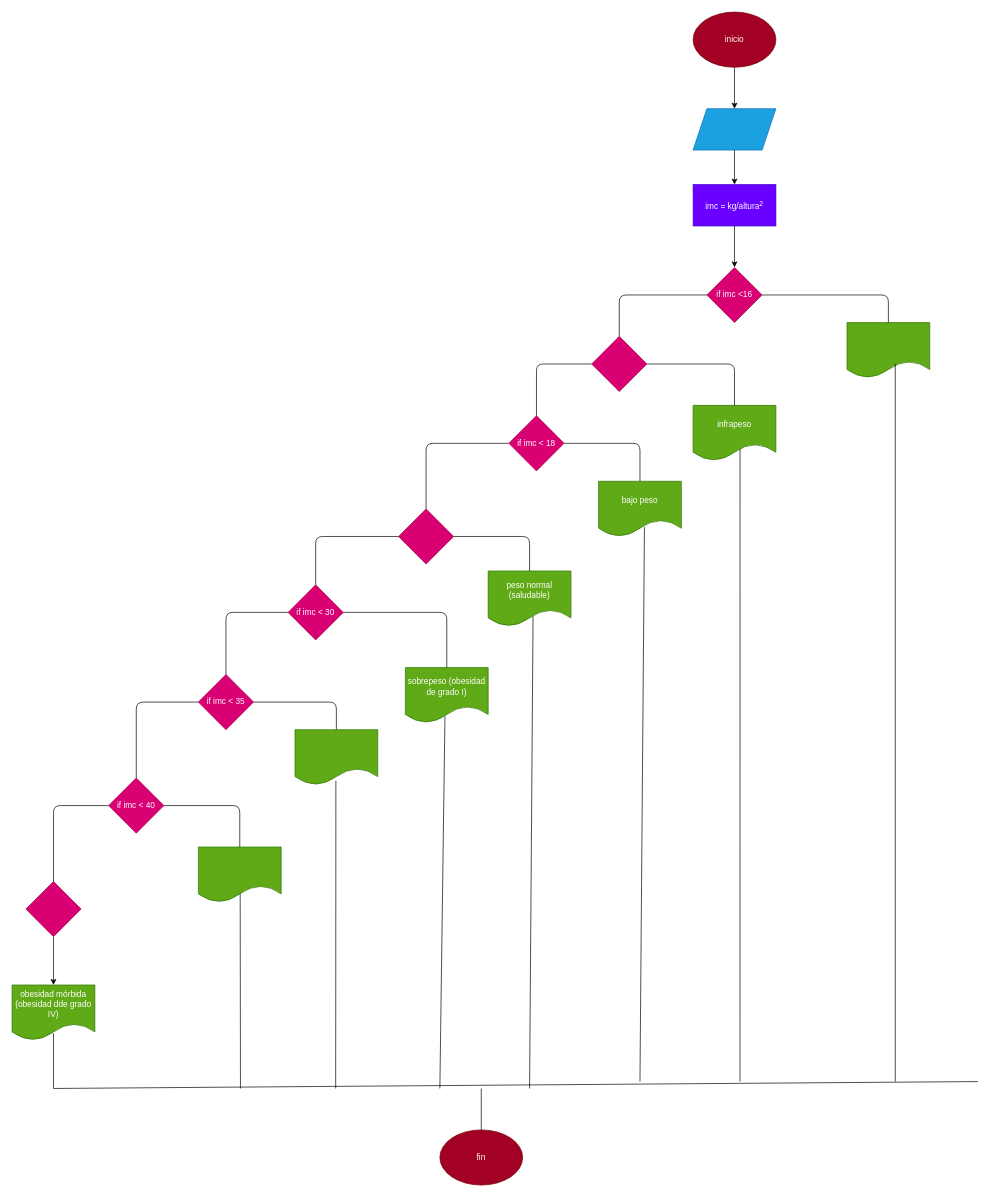
Image size: 991x1197. Some labels were removed from this diagram. The shapes that lost their labels are listed below. From the top down, each one's centre as x and y in pixels, then its label:
At point 734,129: "peso,altura".
At point 619,364: "if imc < 17".
At point 888,350: "criterio de ingreso en hospital".
At point 426,536: "if imc < 25".
At point 336,757: "sobrepeso crónico (obesidad de grado II)".
At point 239,874: "obesidad premórbia (obesidad de grado III)".
At point 53,909: "if imc > 40".
